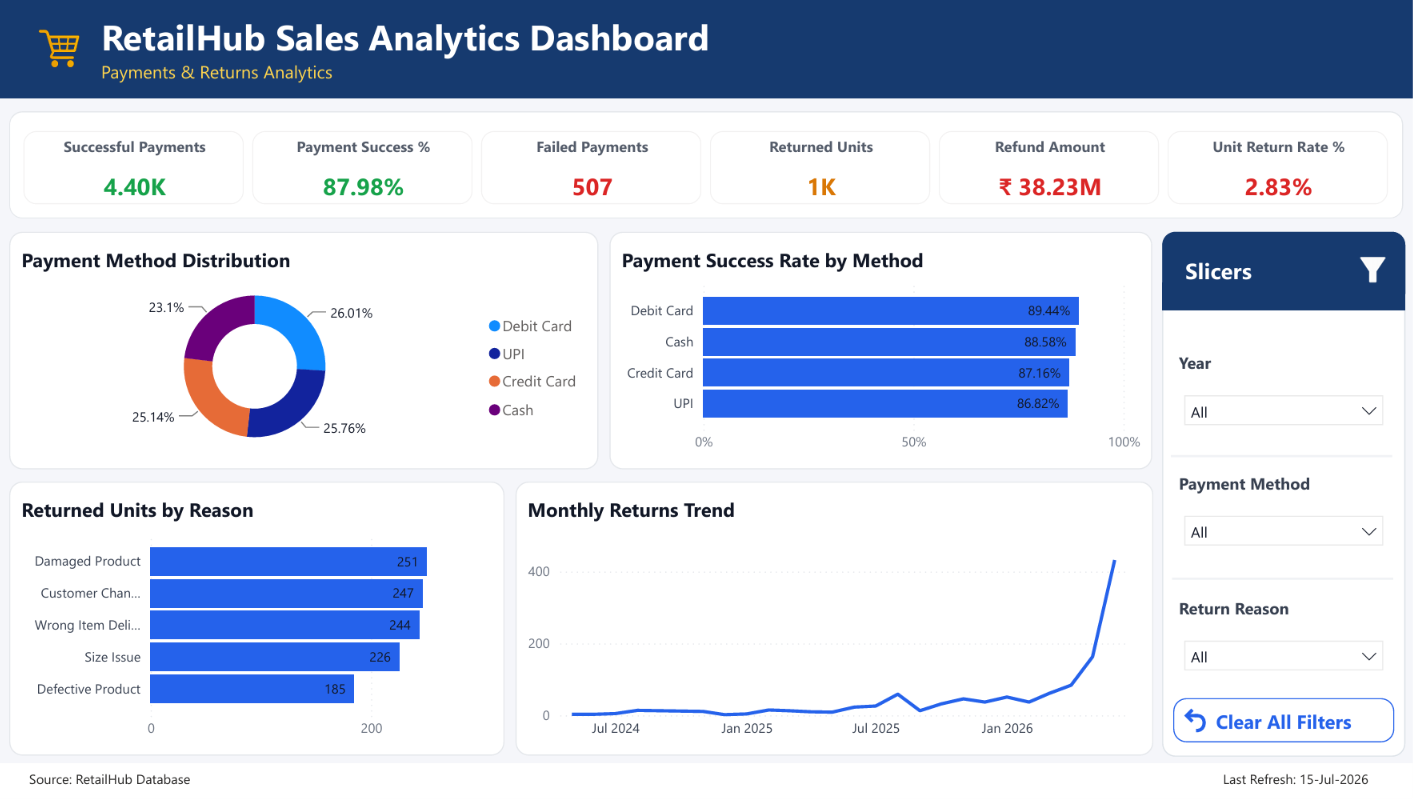

The page's visual inventory and layout, read from the dashboard file:
{"tool":"powerbi","page":{"name":"Payments & Returns Analytics","canvas":[1280,720],"ordinal":5},"visuals":[{"type":"shape","box":[1053.3,211.1,220,474.4],"z":0},{"type":"textbox","box":[0,0,1280,90],"z":1000},{"type":"image","box":[35,25,41.2,41.2],"z":2000},{"type":"slicer","title":"Year","fields":{"Values":["Date.Year"]},"box":[1063,311.1,200,85.6],"z":3000},{"type":"slicer","title":"Payment Method","fields":{"Values":["payments.Payment_Method"]},"box":[1063,420,200,85.6],"z":4000},{"type":"slicer","title":"Return Reason","fields":{"Values":["returns.Reason_for_Return"]},"box":[1063.3,533.3,200,85.6],"z":5000},{"type":"cardVisual","title":"Net Revenue","fields":{"Data":["📊 Measures.Successful Payments","📊 Measures.Payment Success %","📊 Measures.Failed Payments","📊 Measures.Returned Units","📊 Measures.Refund Amount","📊 Measures.Unit Return Rate %"]},"box":[10,102,1260.7,96.5],"z":6000},{"type":"actionButton","title":"Clear all Filters","box":[1063.3,633.3,200,40],"z":7000},{"type":"shape","box":[0,692,1280,28],"z":8000},{"type":"textbox","box":[22.7,692,164,28],"z":9000},{"type":"textbox","box":[1103.3,692,154,28],"z":10000},{"type":"shape","box":[1062.2,516.7,200,16.7],"z":11000},{"type":"shape","box":[1061.1,405.6,200,16.7],"z":12000},{"type":"shape","box":[1053.3,257,220,25],"z":13000},{"type":"shape","title":"Slicers","box":[1053.3,211.1,220,67.8],"z":14000},{"type":"image","box":[1228.6,233.6,29.3,23.6],"z":15000},{"type":"clusteredBarChart","title":"Payment Success Rate by Method","fields":{"Category":["payments.Payment_Method"],"Y":["📊 Measures.Payment Success %"]},"box":[552.5,211.1,491,214.7],"z":16000},{"type":"lineChart","title":"Monthly Returns Trend","fields":{"Y":["📊 Measures.Returned Units"],"Category":["Date.Date.Variation.Date Hierarchy.Year","Date.Date.Variation.Date Hierarchy.Month"]},"box":[468.1,436.7,576.7,248.5],"z":17000},{"type":"clusteredBarChart","title":"Returned Units by Reason","fields":{"Category":["returns.Reason_for_Return"],"Y":["📊 Measures.Returned Units"]},"box":[9.7,436.7,448.8,248.5],"z":18000},{"type":"donutChart","title":"Payment Method Distribution","fields":{"Category":["payments.Payment_Method"],"Y":["📊 Measures.Successful Payments"]},"box":[9.7,211.1,533.2,215],"z":19000}]}

Visuals, with their boxes in screenshot pixels (x1, y1, x2, y2), scaled from the page's 1280x720 canvas onto the 1413x799 screenshot:
shape: [1163,234,1406,761]
textbox: [0,0,1412,100]
image: [39,28,84,73]
"Year" slicer: [1173,345,1394,440]
"Payment Method" slicer: [1173,466,1394,561]
"Return Reason" slicer: [1174,592,1395,687]
"Net Revenue" cardVisual: [11,113,1403,220]
"Clear all Filters" actionButton: [1174,703,1395,747]
shape: [0,768,1412,798]
textbox: [25,768,206,798]
textbox: [1218,768,1388,798]
shape: [1173,573,1393,592]
shape: [1171,450,1392,469]
shape: [1163,285,1406,313]
"Slicers" shape: [1163,234,1406,310]
image: [1356,259,1389,285]
"Payment Success Rate by Method" clusteredBarChart: [610,234,1152,473]
"Monthly Returns Trend" lineChart: [517,485,1153,760]
"Returned Units by Reason" clusteredBarChart: [11,485,506,760]
"Payment Method Distribution" donutChart: [11,234,599,473]
